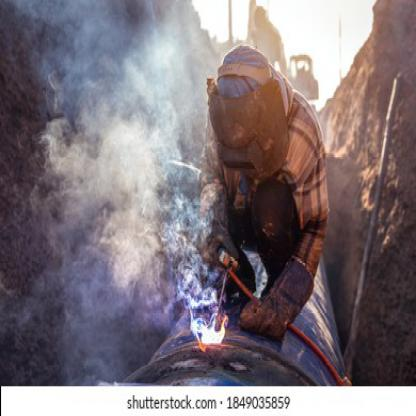with_gloves: (239, 256, 315, 337), (195, 180, 240, 267)
